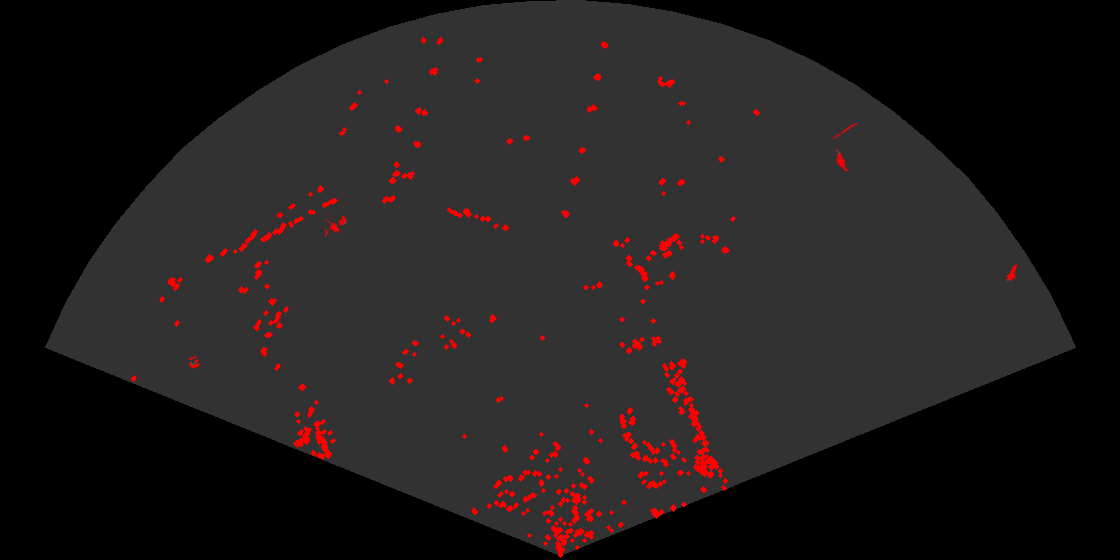ball: (187, 354, 202, 370)
cage: (325, 211, 348, 239)
chain: (833, 121, 859, 139)
frogman: (834, 147, 850, 171), (1004, 262, 1020, 283)
